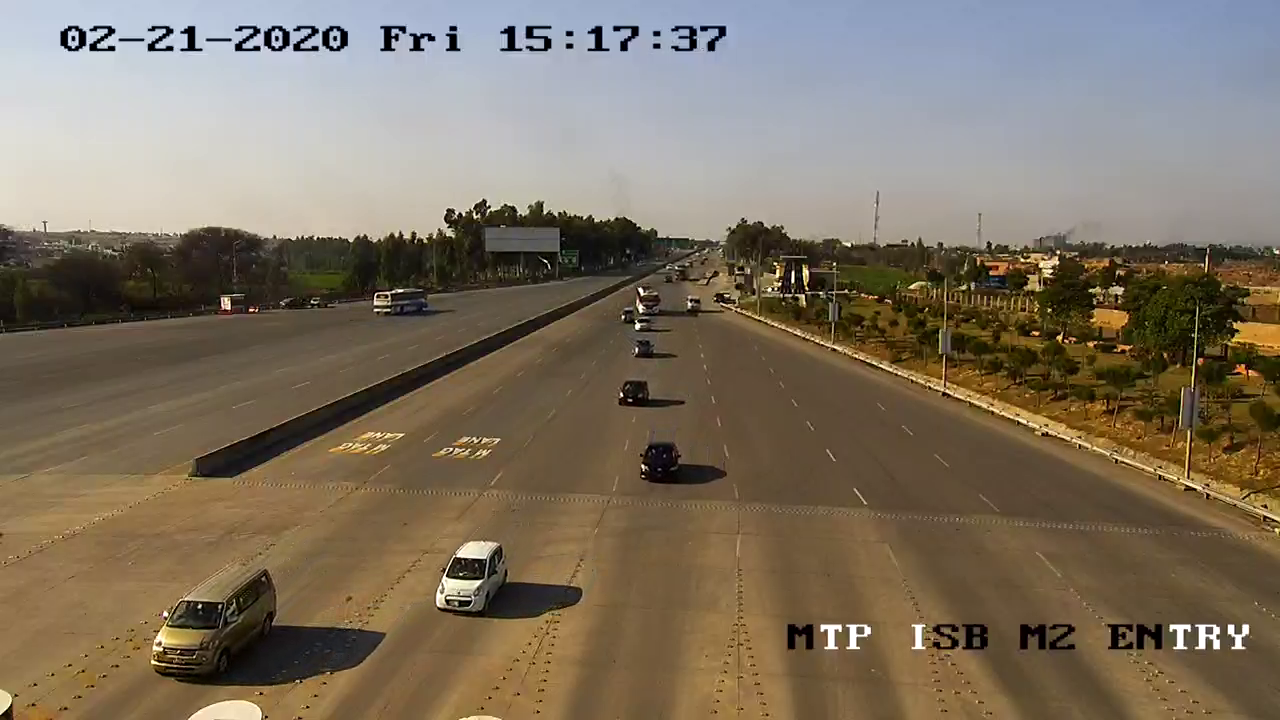f1: (141, 557, 284, 683), (430, 535, 513, 627), (635, 437, 688, 488), (613, 371, 656, 413)
